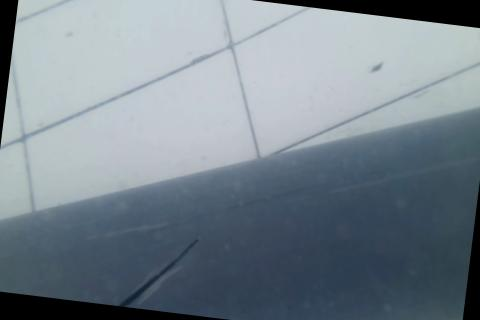keretakan: (110, 225, 200, 315)
